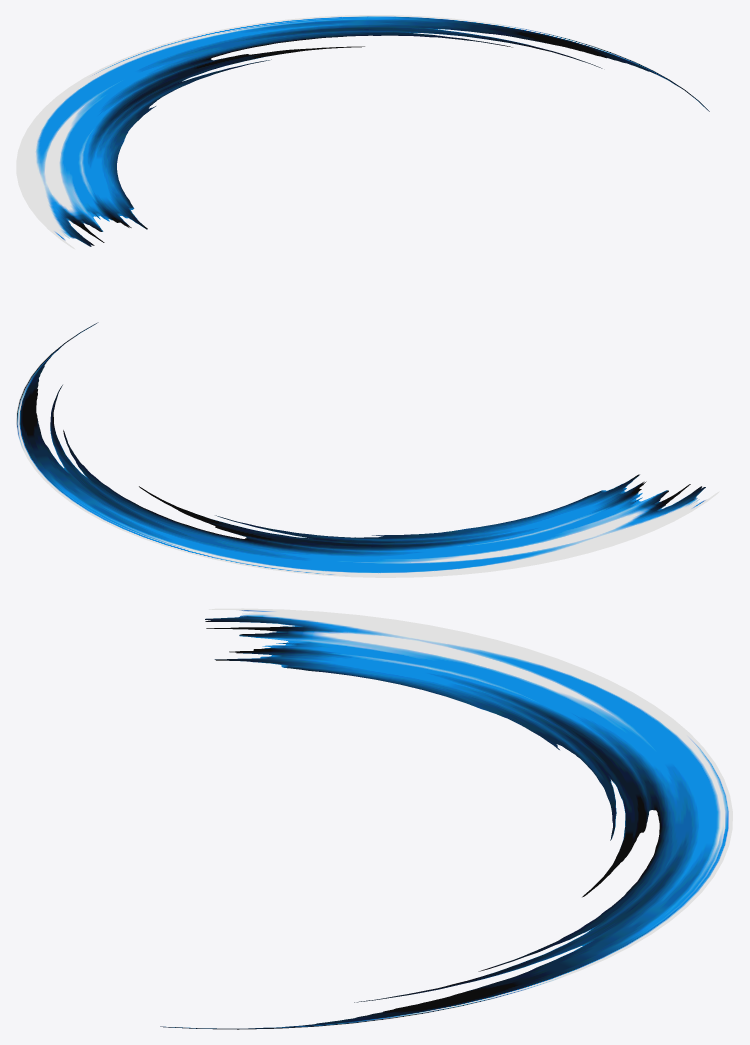
The model's file is Fbx_Dg_fsw_008.FBX.
The picture shows the model from 3 angles, top to bottom: view 1: azimuth 30°, elevation 25°; view 2: azimuth 150°, elevation 25°; view 3: azimuth 270°, elevation 25°; orthographic projection. The views are drawn at different scales.
Visible parts, largest first — view 1: Fbx_Dg_fsw_008; view 2: Fbx_Dg_fsw_008; view 3: Fbx_Dg_fsw_008.
Boxes of the visible parts, box(x1,y1,x2,y2) form: Fbx_Dg_fsw_008: box(16, 15, 709, 249); Fbx_Dg_fsw_008: box(16, 322, 719, 577); Fbx_Dg_fsw_008: box(160, 608, 732, 1029).
Bounding box in the file's own units: 12617 × 5.22e-11 × 9088.
